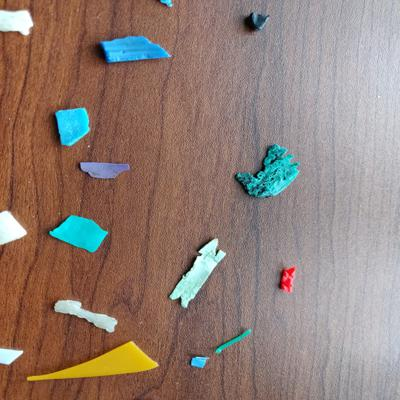plastic: (26, 338, 160, 389), (234, 134, 303, 205), (47, 209, 112, 259), (51, 294, 120, 338), (97, 34, 176, 70), (73, 156, 137, 187), (52, 103, 93, 149), (212, 323, 259, 361), (1, 206, 29, 253), (273, 260, 307, 296), (1, 6, 36, 37), (244, 4, 275, 34), (1, 340, 25, 368), (186, 355, 212, 370), (154, 1, 177, 10)
